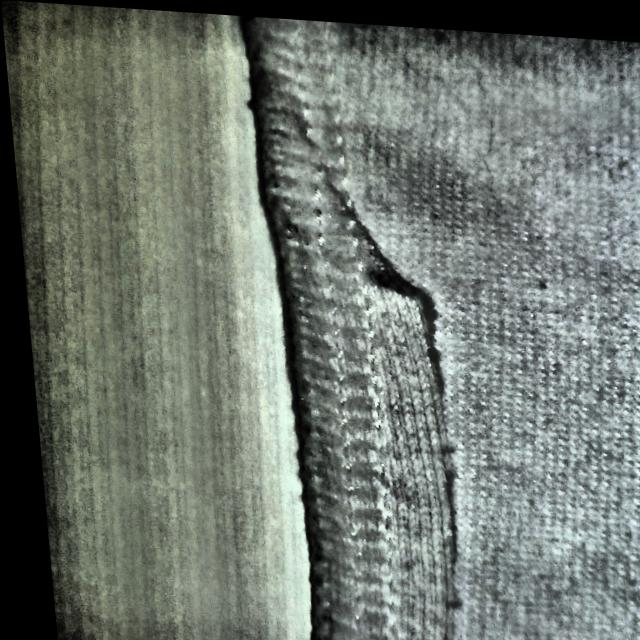seam: (271, 221, 498, 640)
